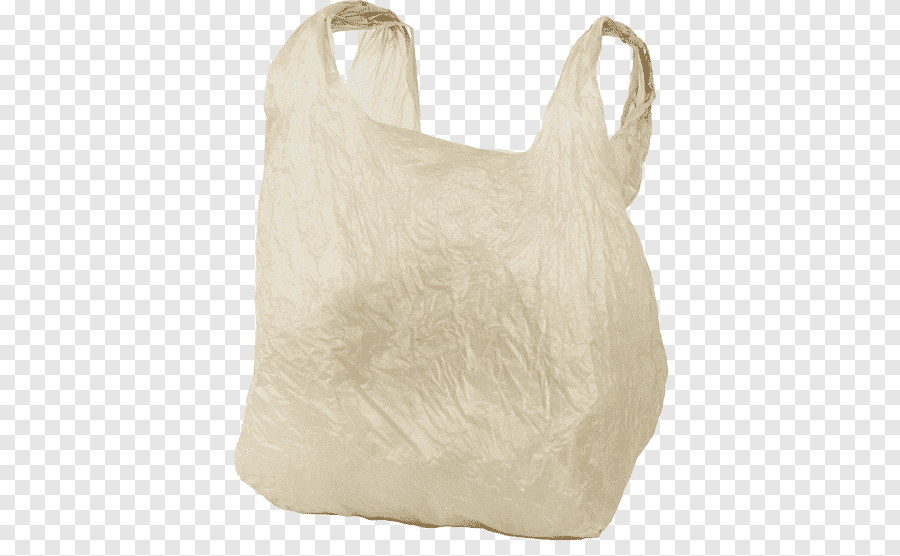plastic_bagwdw: (206, 1, 719, 556)
